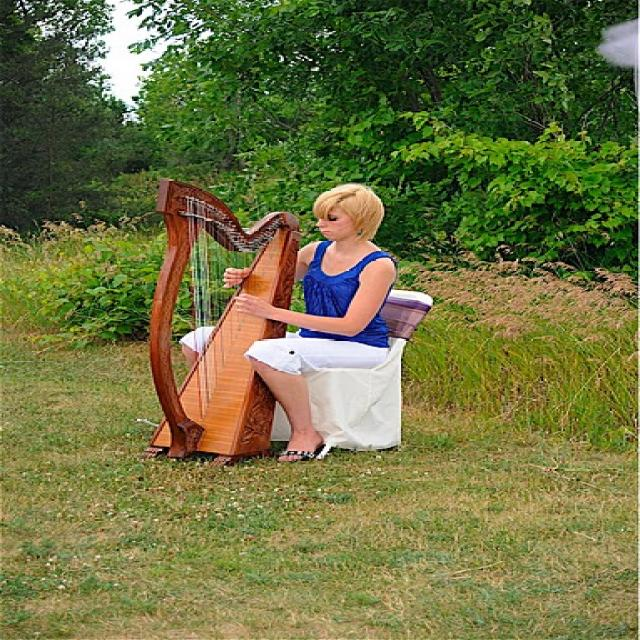harp: (146, 178, 300, 466)
